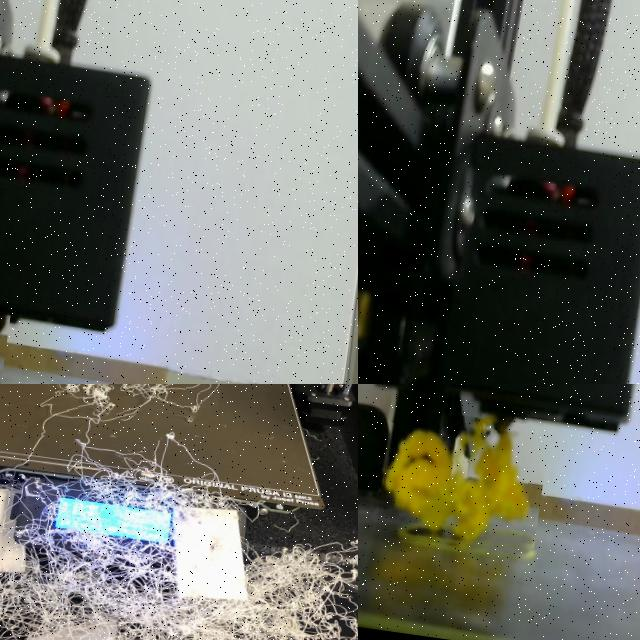spaghetti: (0, 438, 358, 640), (374, 406, 551, 560), (66, 384, 222, 415)
